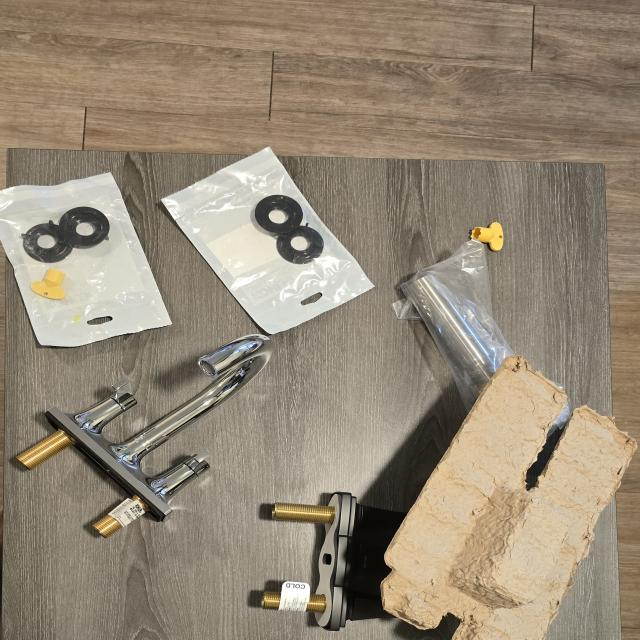10: (17, 334, 272, 537)
11o: (393, 239, 514, 412)
12: (0, 173, 171, 347)
13: (162, 147, 374, 334)
14: (470, 222, 503, 251)
9o: (261, 492, 405, 631)
